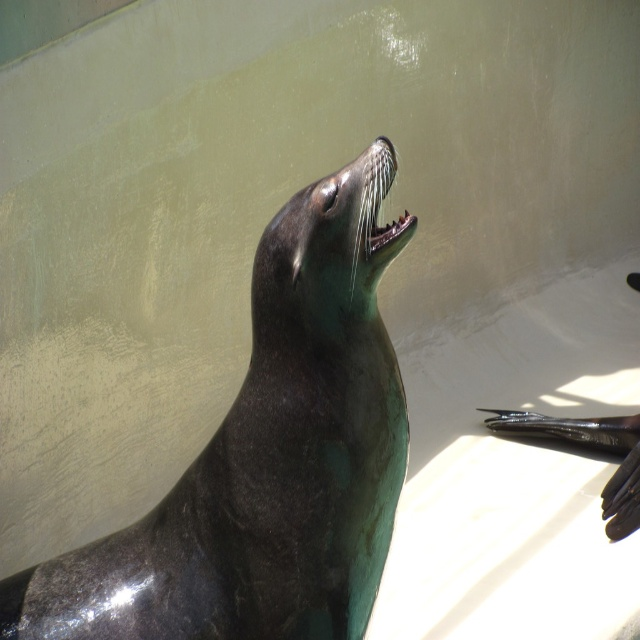Sea lion: (0, 137, 417, 639)
